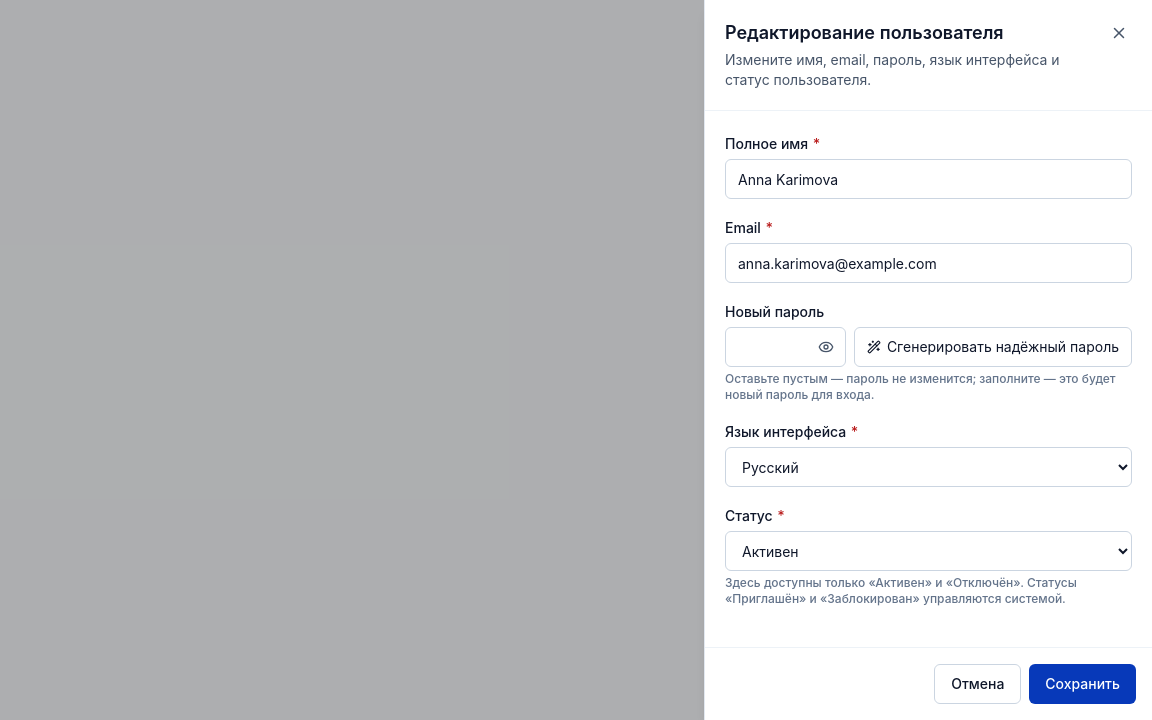
<EditUserDialog /> › refuses submission when a non-empty password is too weak
This screenshot has width=1152, height=720.
In the password field with test id "edit-password": point(785, 347) [725,327,846,367], type "weak"
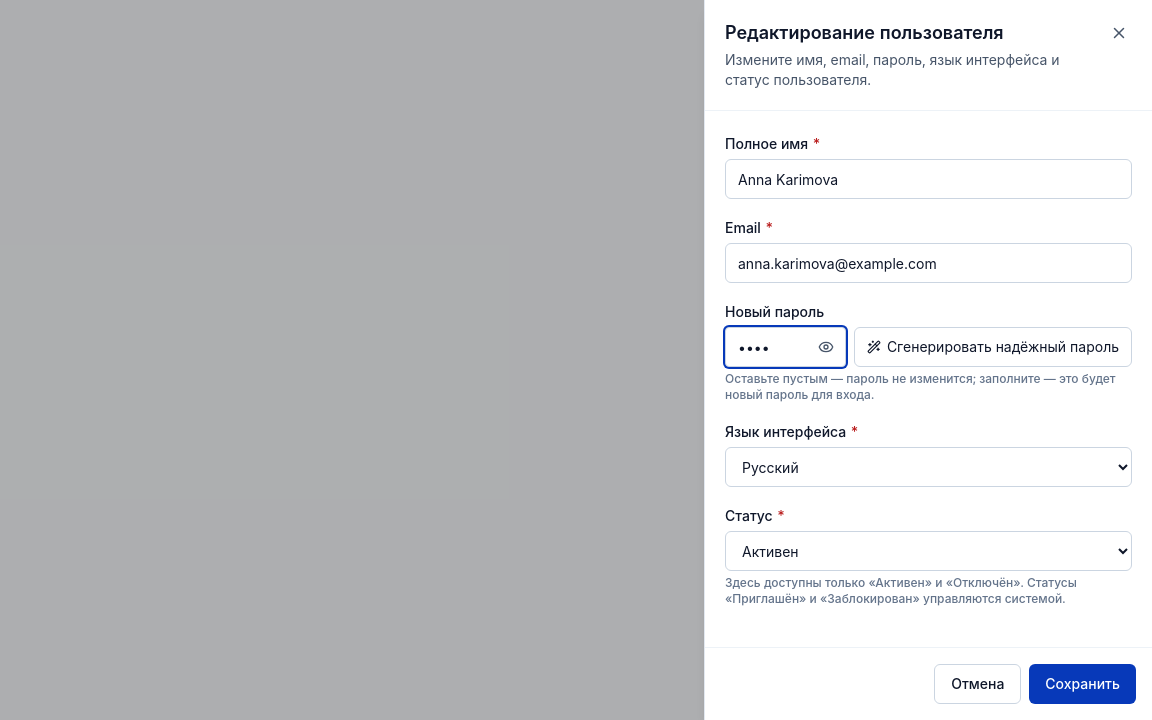
Click the button "Сохранить": point(1083, 684) [1029,664,1136,704]
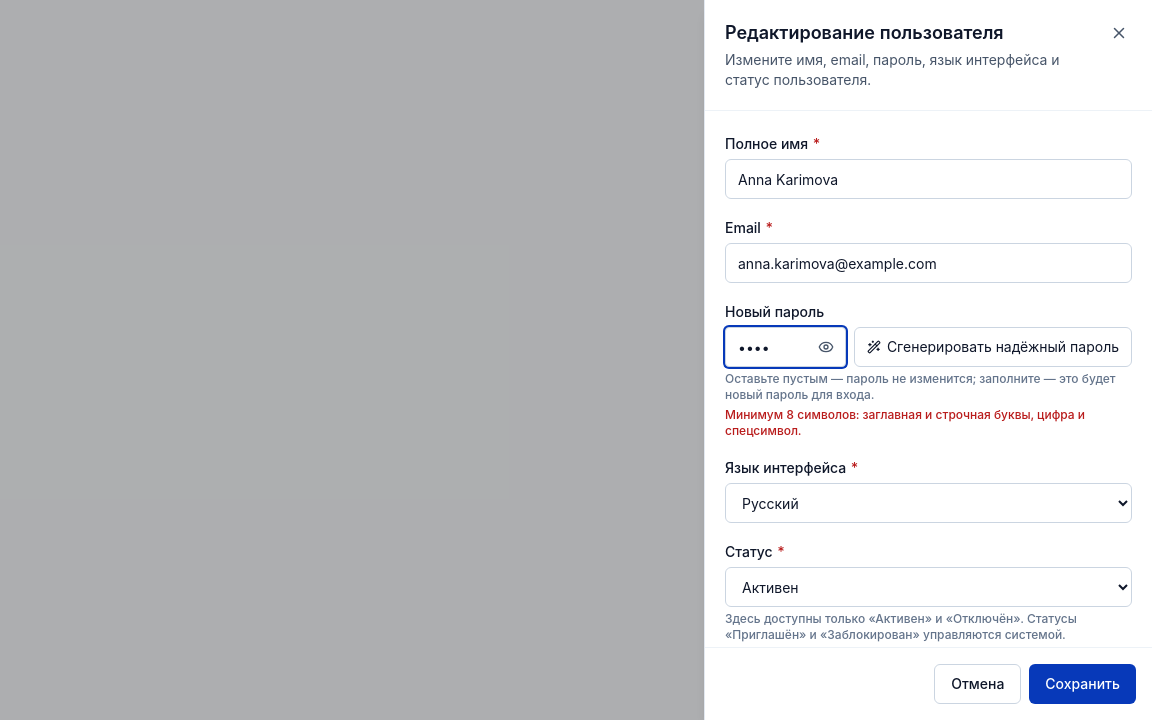
Expected: the message "Минимум 8 символов: заглавная и строчная буквы, цифра и спецсимвол." is shown, [725,407,1132,439]
